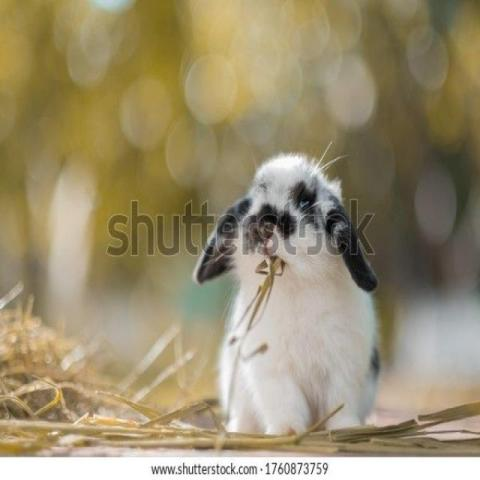small_animal: (190, 146, 383, 437), (0, 394, 479, 458)
